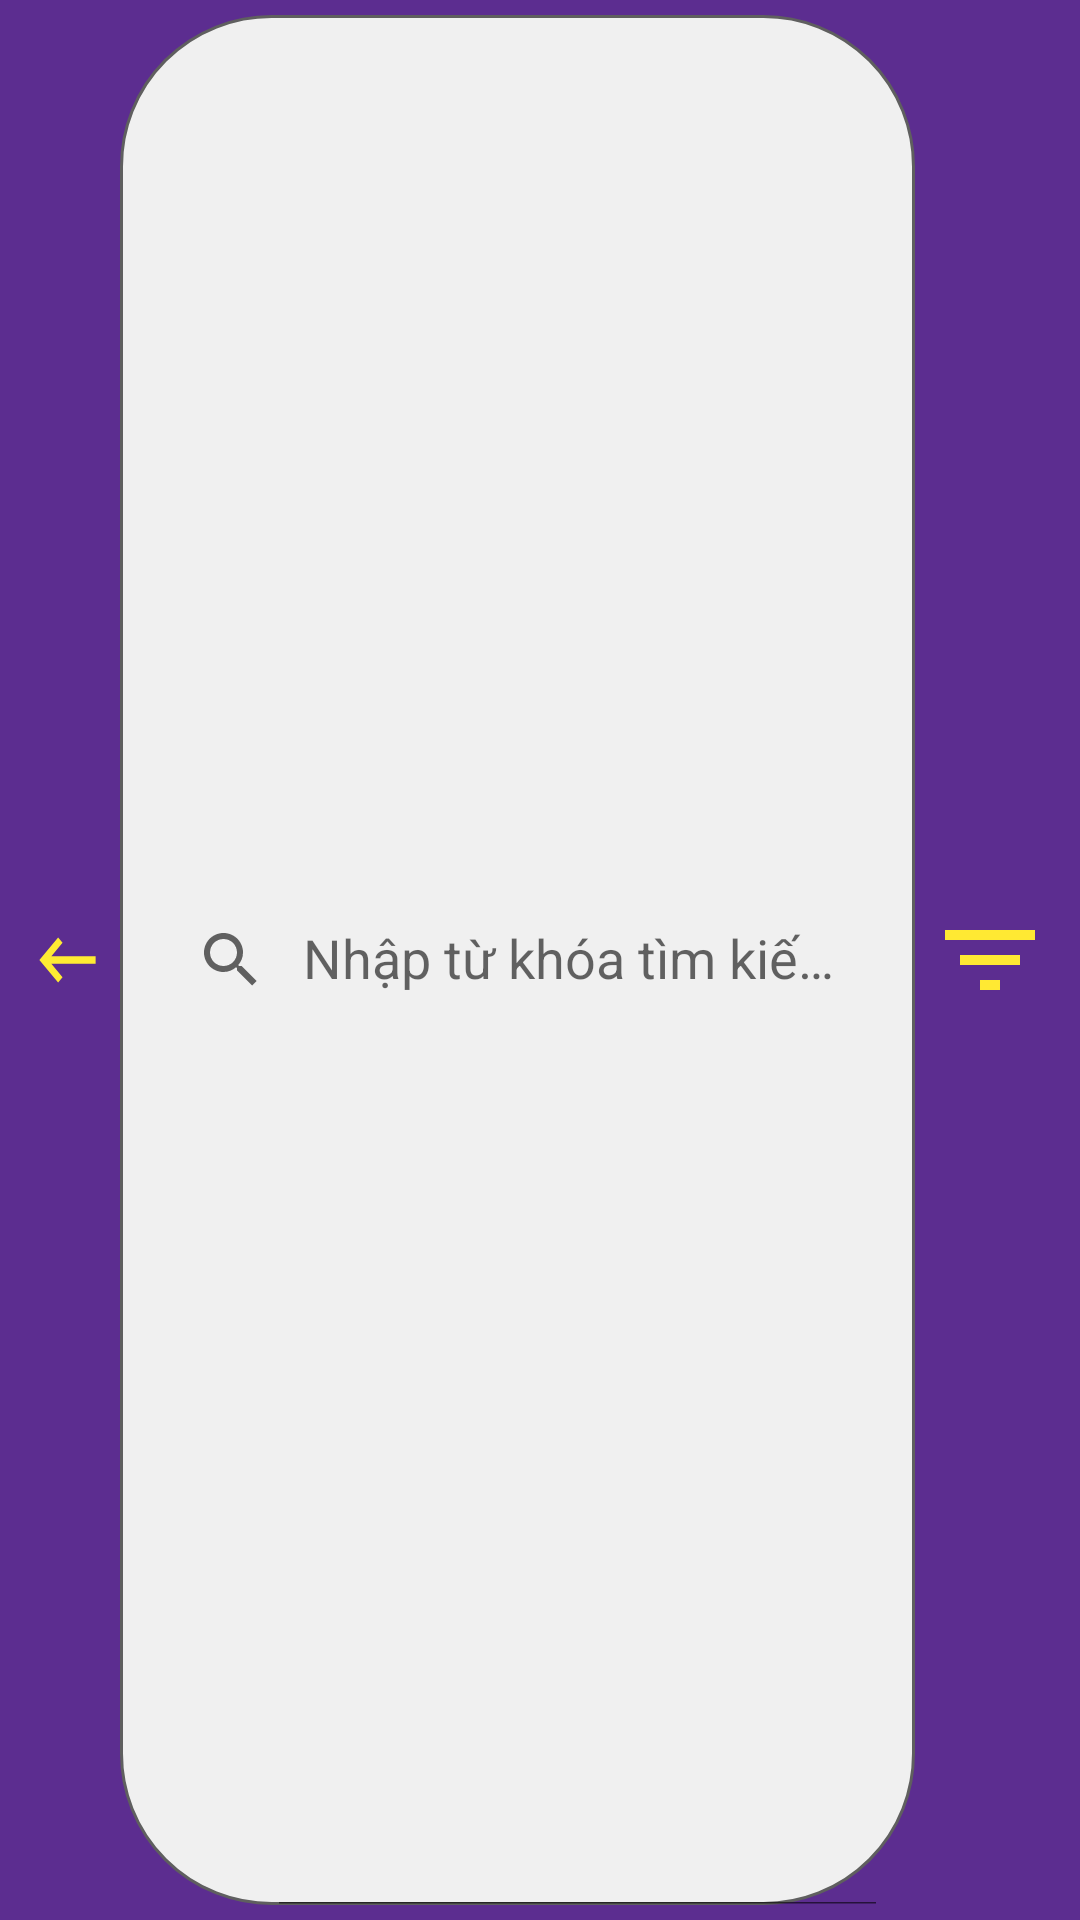

Icons on this 1080 × 1920 Android screen, each with the point to tap as (x=x, y=y):
back: (x=67, y=960)
filter: (x=990, y=960)
